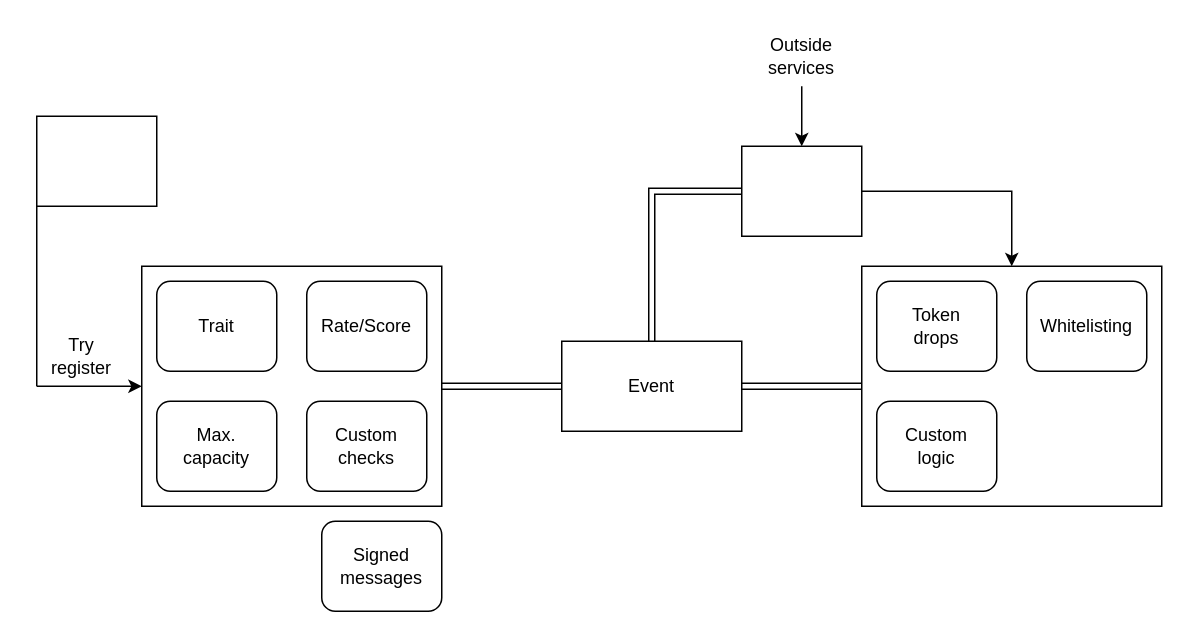
Some shapes in this 1188 by 638 pixel diagram are drawn without their labels. The centre of each missing label's shape, as x and y in pixels:
"Finalization listeners" belongs at pixel 801 190.
"Registry" belongs at pixel 96 160.
